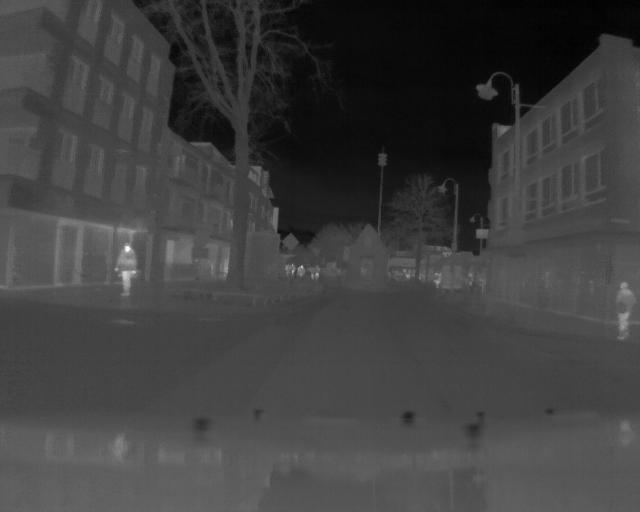person: (112, 241, 140, 299), (614, 279, 637, 341)
